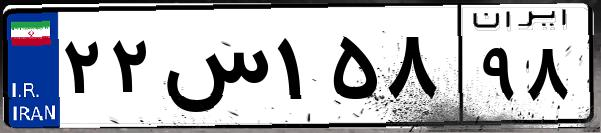1: (270, 28, 330, 110)
2: (57, 26, 110, 100), (110, 28, 158, 98)
5: (330, 28, 385, 110)
8: (385, 28, 445, 110), (525, 38, 570, 115)
9: (475, 38, 525, 113)
س: (158, 20, 270, 120)
